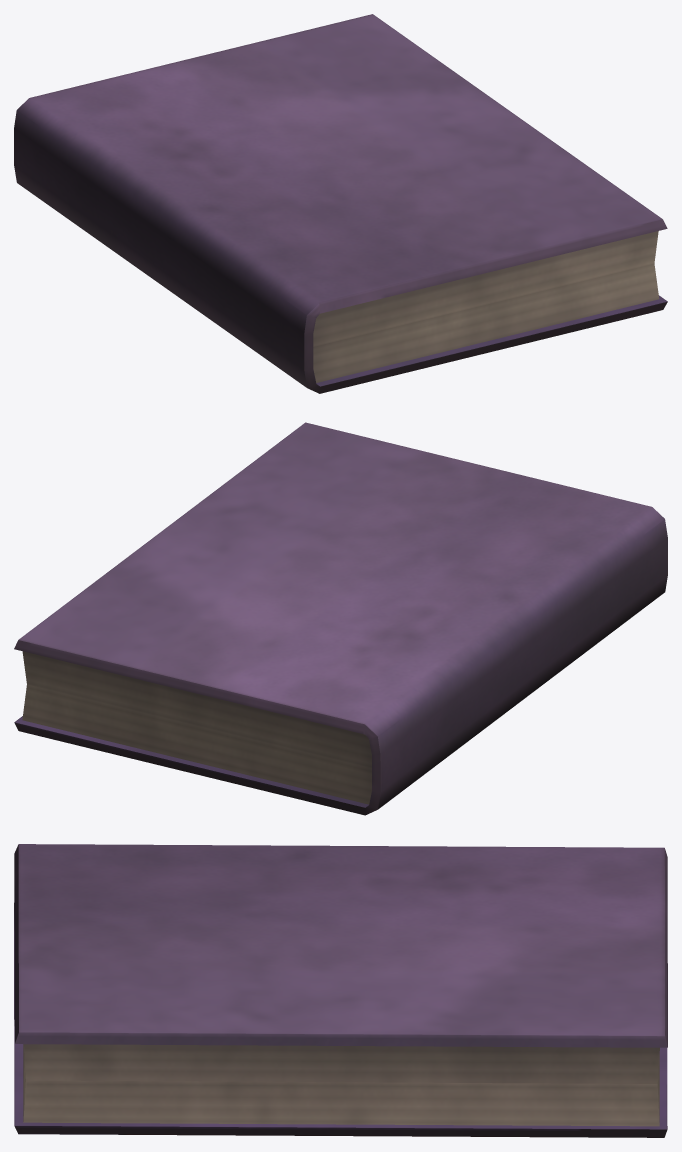
The model's file is SM_Book_06.fbx.
3 views of the same model, one above another, from view 1: azimuth 30°, elevation 25°; view 2: azimuth 150°, elevation 25°; view 3: azimuth 270°, elevation 25° (orthographic). The views are drawn at different scales.
Visible parts, largest first — view 1: SM_Book_06_LOD0; view 2: SM_Book_06_LOD0; view 3: SM_Book_06_LOD0.
Part boxes in pixels (left/top/right/bottom): SM_Book_06_LOD0: left=14, top=14, right=667, bottom=393; SM_Book_06_LOD0: left=14, top=422, right=667, bottom=815; SM_Book_06_LOD0: left=14, top=844, right=667, bottom=1137.
Bounding box in the file's own units: 18.74 × 25.9 × 4.67.
1 material, 1 textured.
